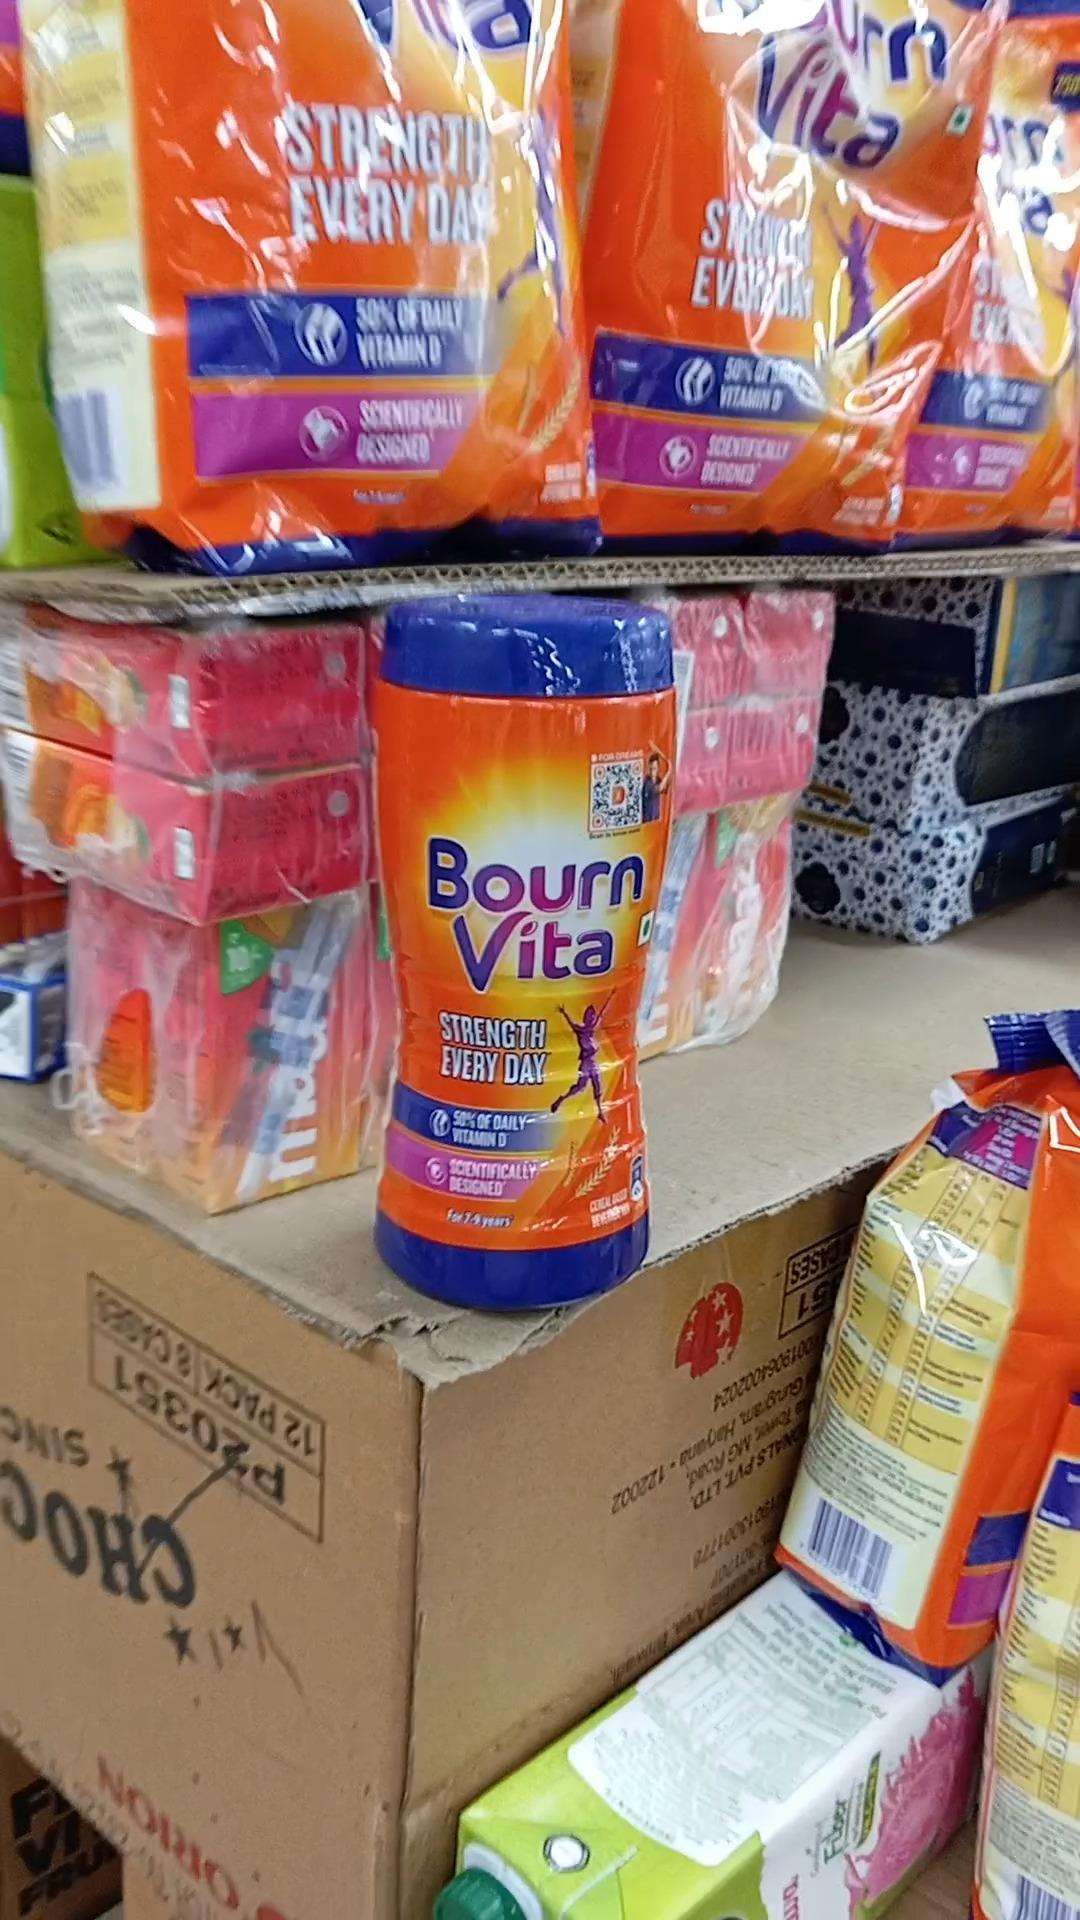BOURN_VITA_200_G_JAR: (371, 580, 670, 1300)
